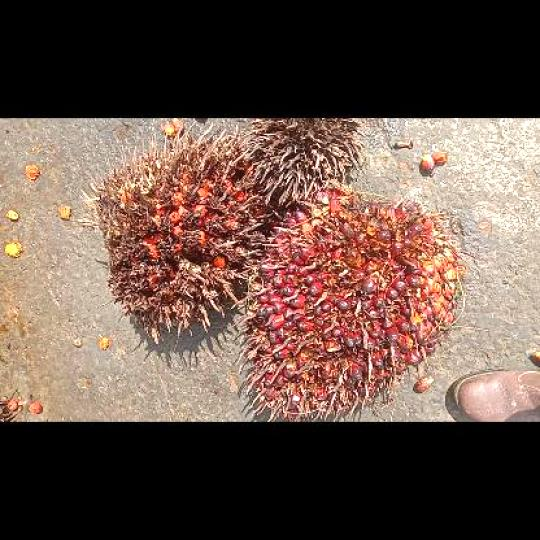masak: (231, 184, 465, 421)
terlalu masak: (79, 123, 271, 342)
